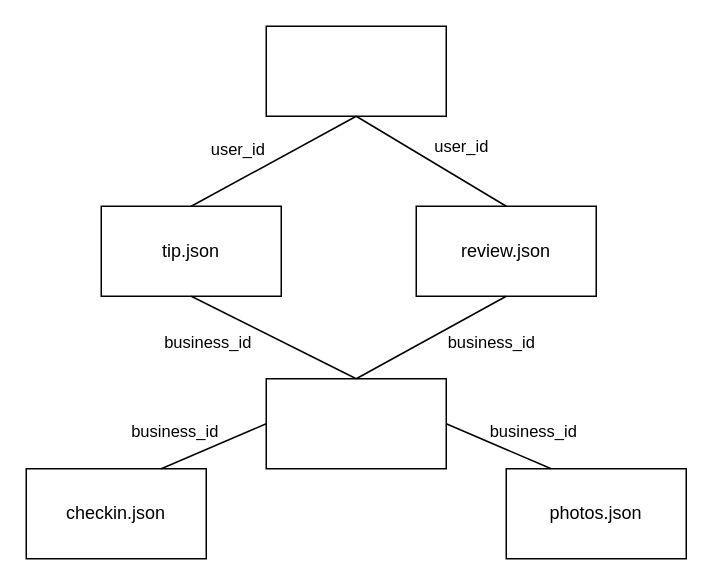
Image size: 713x585. Some labels were removed from this diagram. Here are the shapes that lost their labels. From the top down, the centre of each, then its label:
the point at 355,70: user.json
the point at 355,423: Business.json
